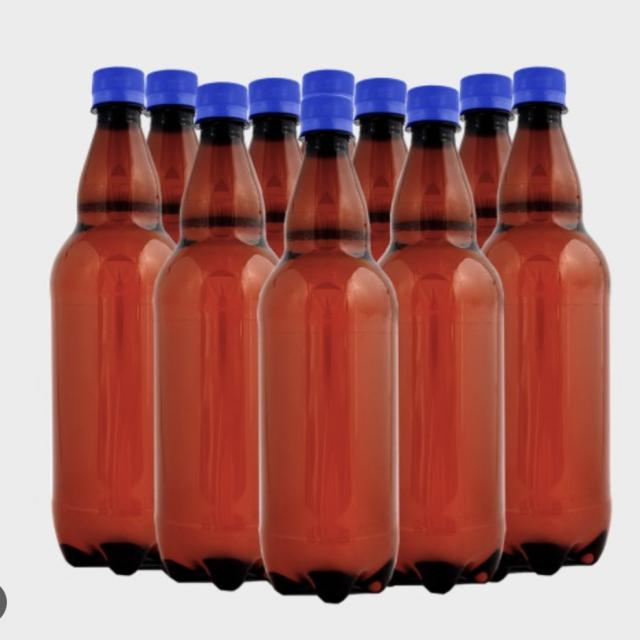recyclable: (250, 58, 416, 607), (363, 63, 516, 609), (145, 75, 302, 594), (45, 56, 191, 584), (482, 53, 621, 590)
